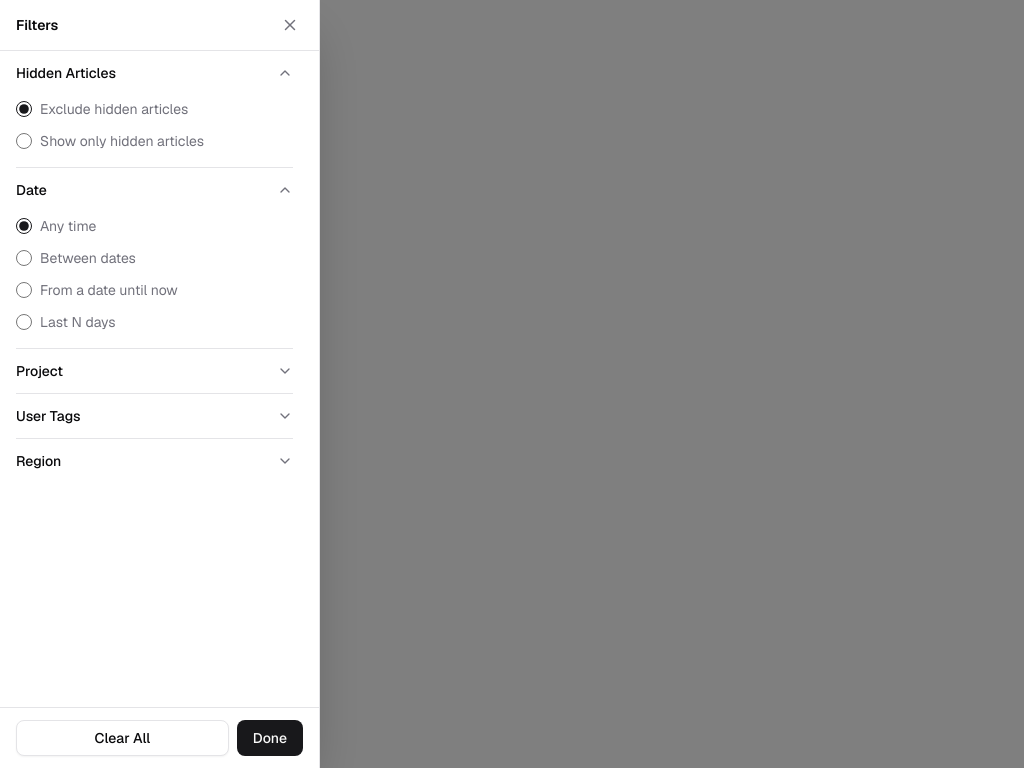
Scenario: FilterPanel › shows a denial message instead of checkboxes when a hard concept has no granted values
Click the button "Region".
click(39, 461)  # box [16, 451, 293, 471]
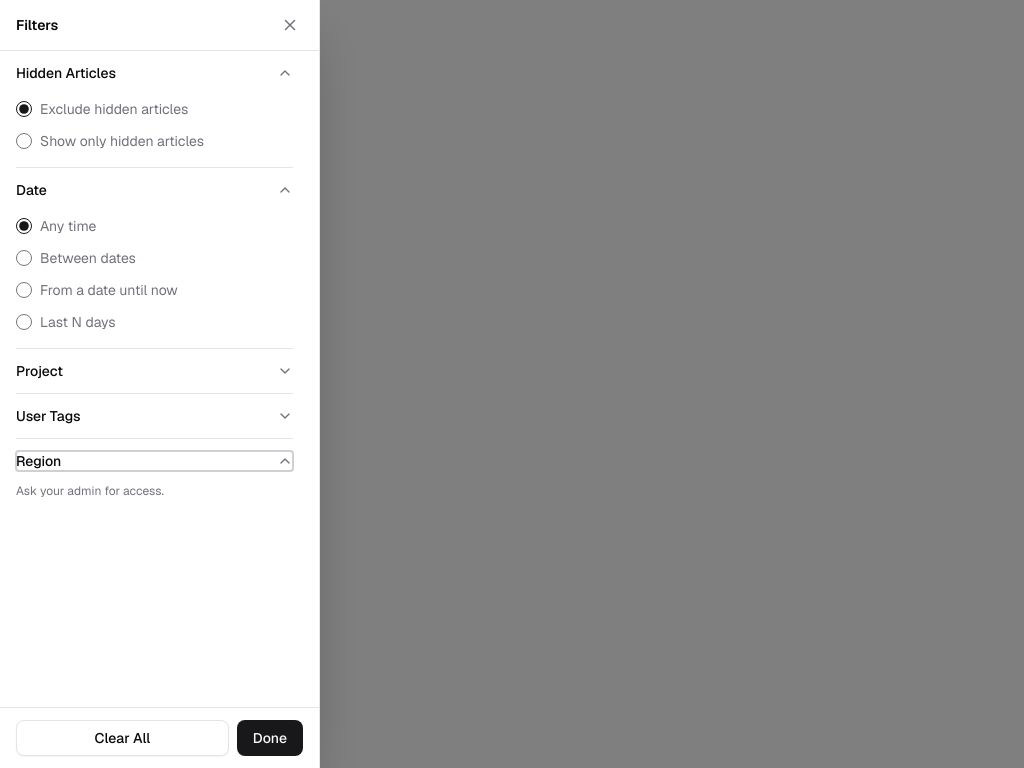
Now the text "Ask your admin for access." is shown, box [16, 483, 164, 499]
